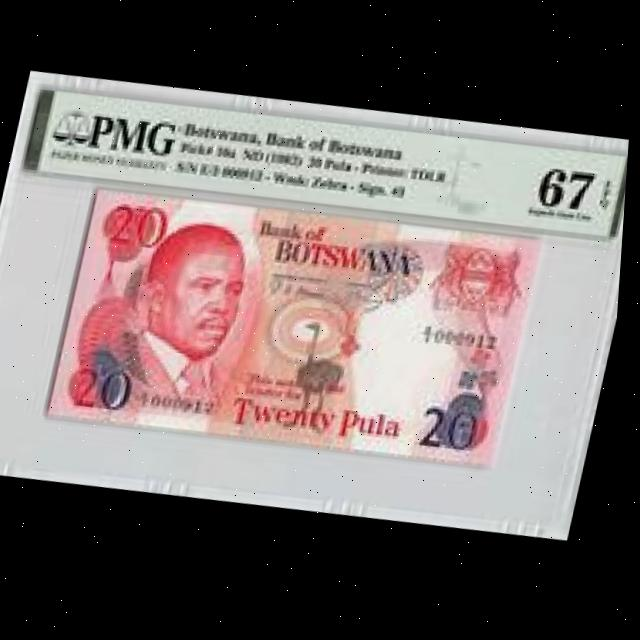banknote: (36, 171, 557, 496)
